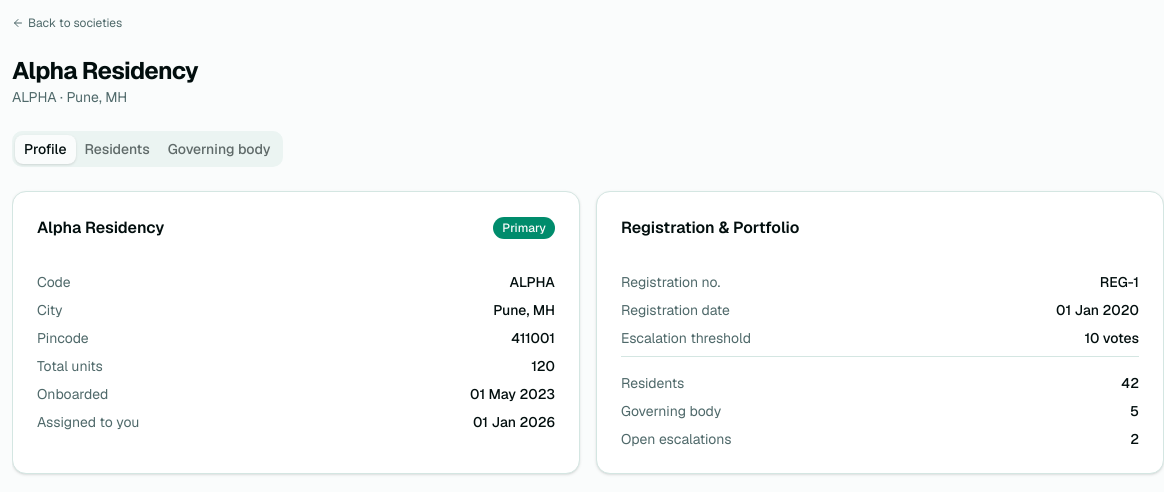
Scenario: CounsellorSocietyDetailPage › shows error banner when residents query fails
Step 1. Click the tab "Residents" → coordinates (117, 149), box [76,134,159,164]
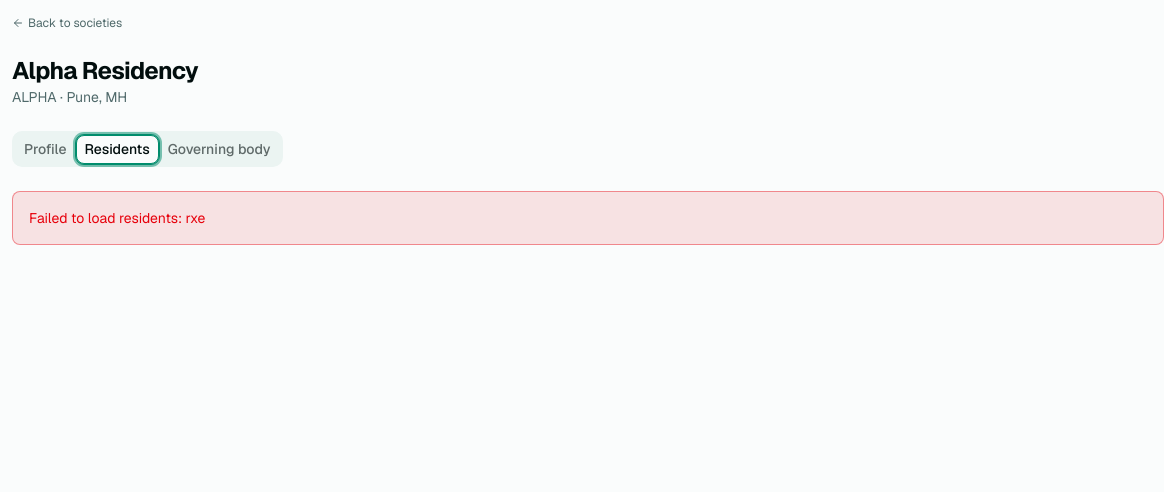
Now the text "Failed to load residents: rxe" is shown, box [12,191,1163,245]
